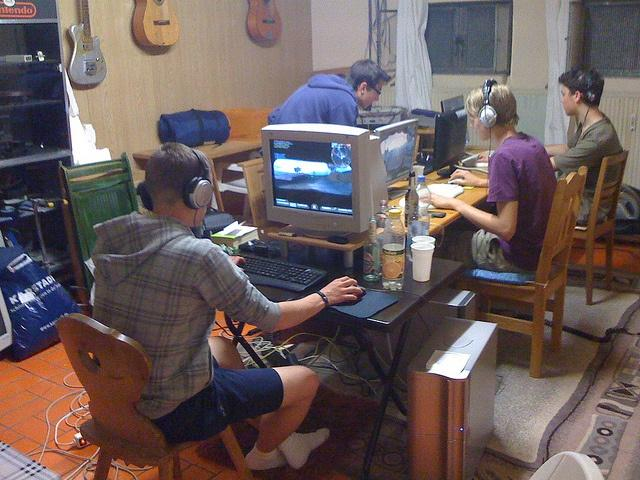Kursi: (55, 313, 253, 479), (456, 165, 586, 379), (567, 149, 628, 305)
